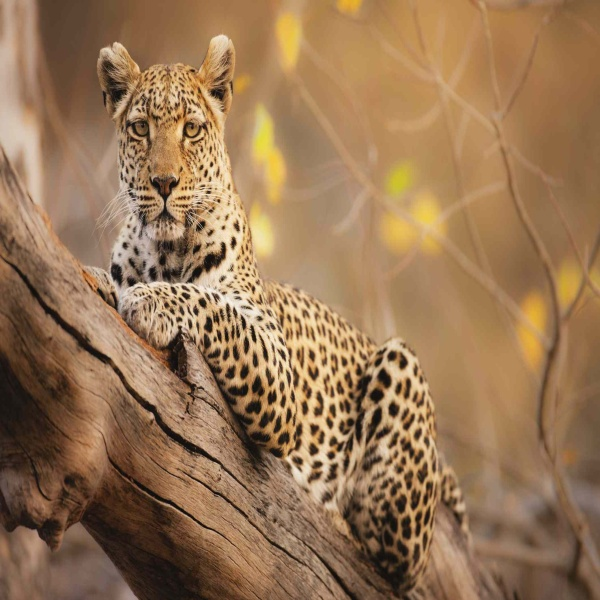Leopard: (89, 30, 479, 594)
